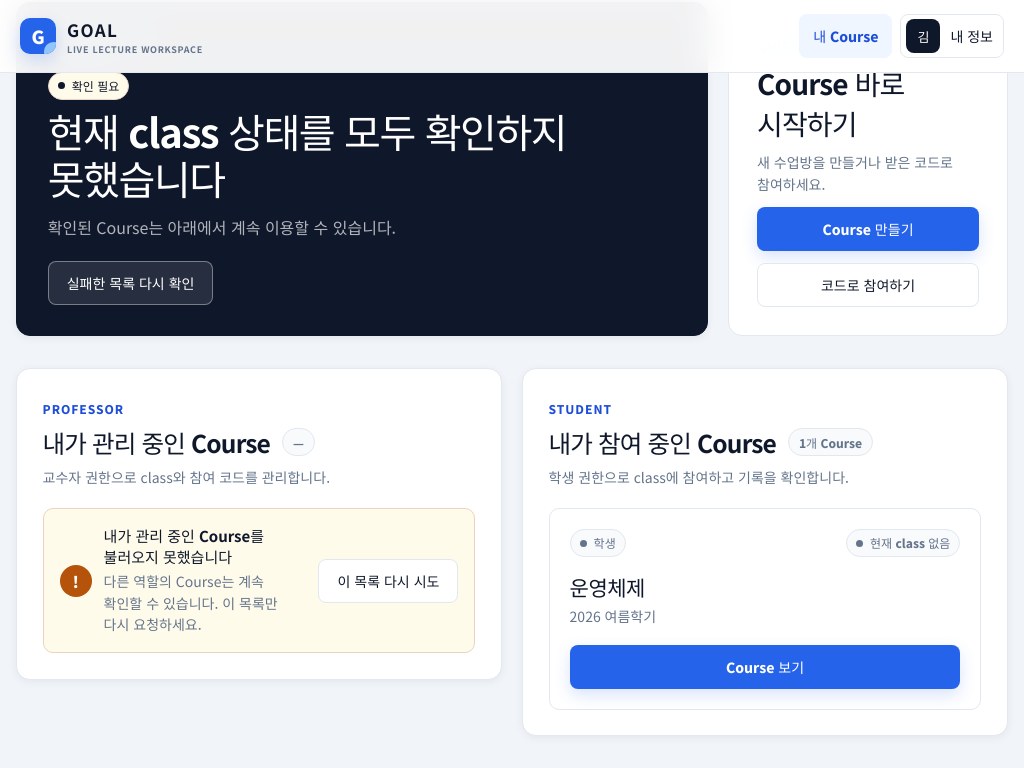
Course role flows › keeps a successful dashboard role visible while retrying the failed role
This screenshot has width=1024, height=768.
(page scrolled)
Expected: the heading "운영체제" is shown, [570,572,645,602]
Expected: the heading "내가 관리 중인 Course를 불러오지 못했습니다" is shown, [104,525,264,567]
Click the button "이 목록 다시 시도" at coordinates (388, 581), box [318,559,458,603]
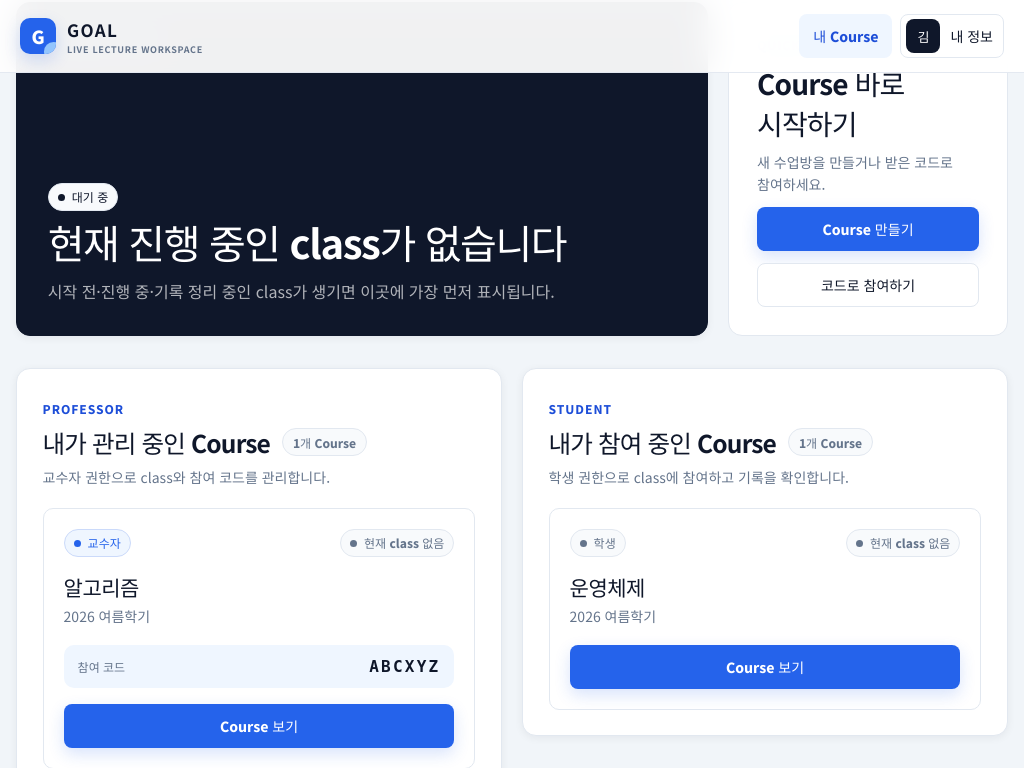
Expected: the heading "운영체제" is shown, [570,572,645,602]
Expected: the text "ABCXYZ" is shown, [369,656,440,676]
